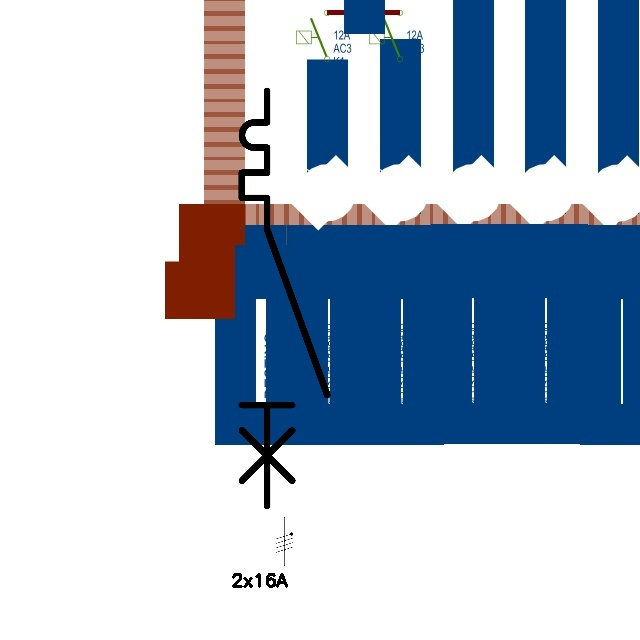interruptor_termomagnetico: (231, 80, 338, 517)
